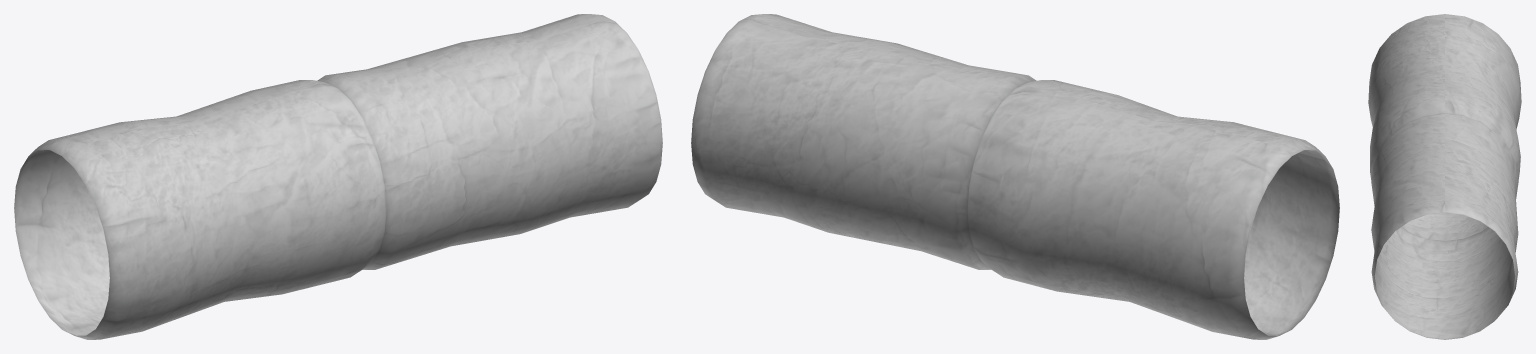
Rendered from Subway_Pipe_foil3.fbx.
3 renders of one model, left to right at view 1: azimuth 30°, elevation 25°; view 2: azimuth 150°, elevation 25°; view 3: azimuth 270°, elevation 25°, orthographic. The views are drawn at different scales.
Parts seen in each view (by area): view 1: pCylinder12; view 2: pCylinder12; view 3: pCylinder12.
Boxes of the visible parts, x1,y1,x2,y2 form: pCylinder12: (14,14,662,339); pCylinder12: (691,14,1339,339); pCylinder12: (1368,14,1521,339).
Size of the model in its own units: 200 by 65.42 by 65.41.
